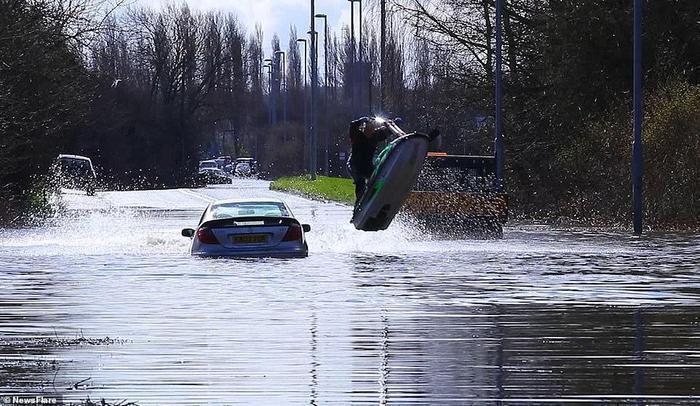water: (0, 180, 698, 405)
